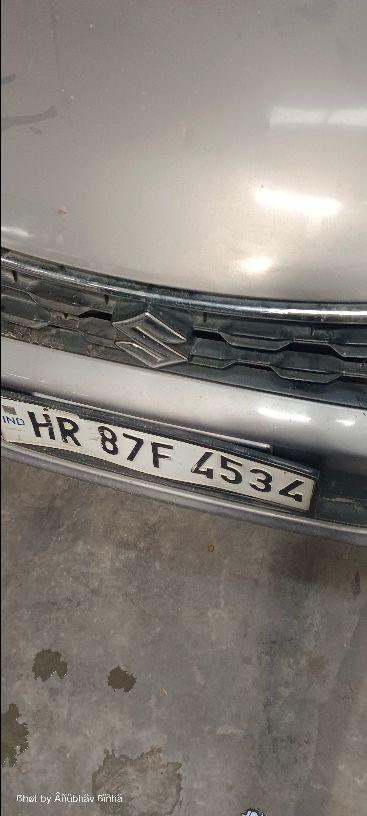license_plate: (1, 385, 322, 520)
